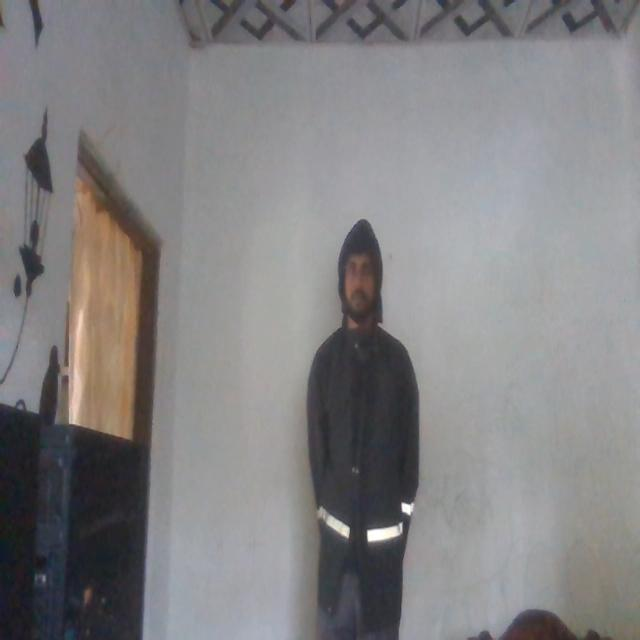Jacket_Wearer: (306, 326, 420, 588)
Person: (303, 221, 421, 640)
